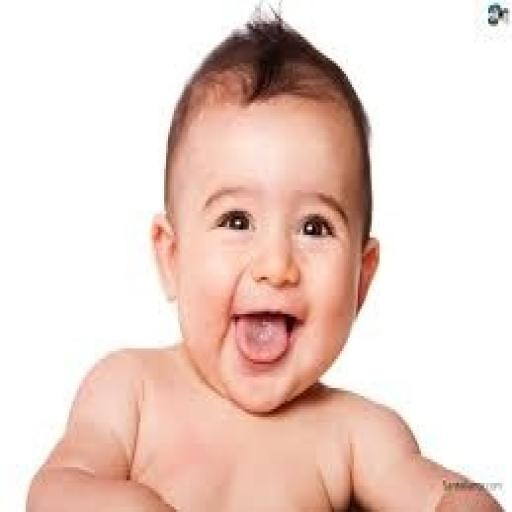laughing: (19, 0, 510, 509)
